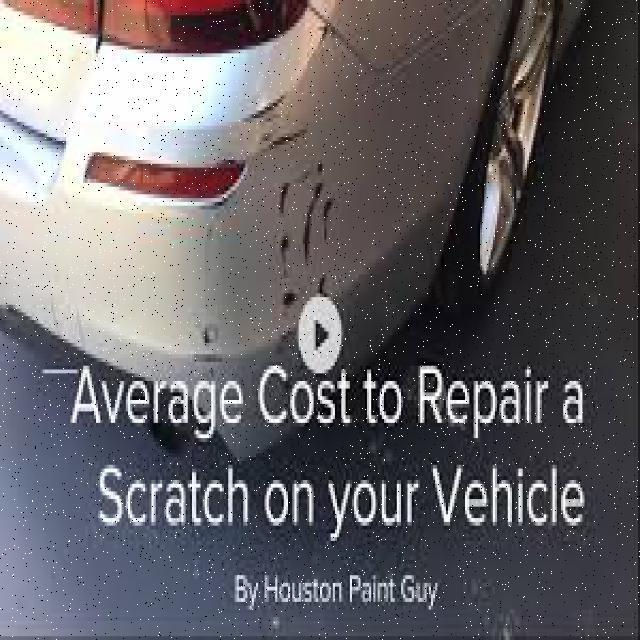rear-bumper-dent: (0, 41, 461, 468)
